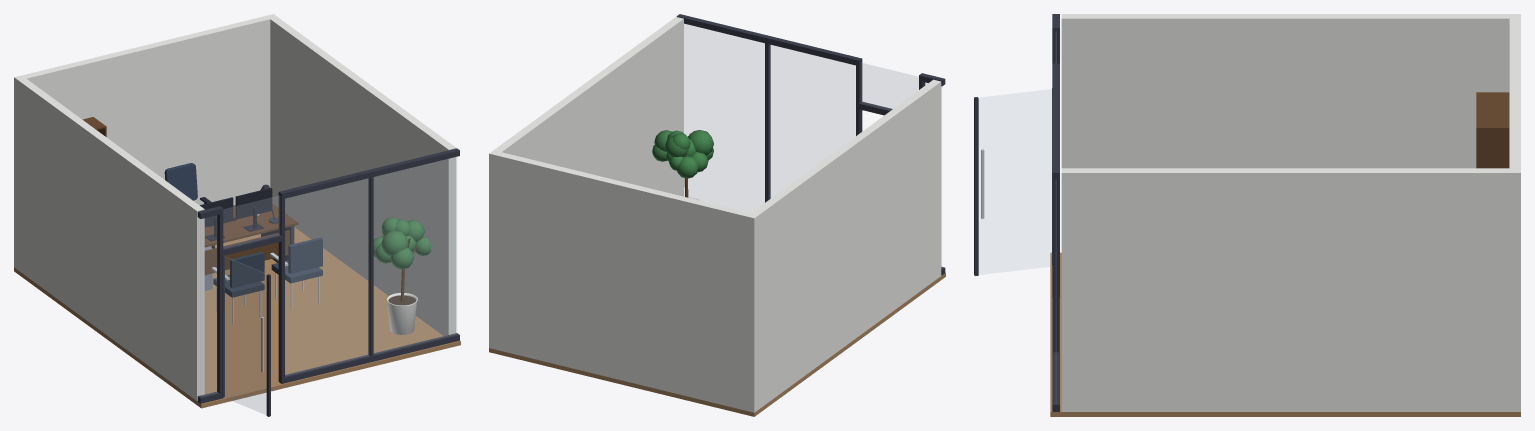
3 renders of one model, left to right at view 1: azimuth 30°, elevation 25°; view 2: azimuth 150°, elevation 25°; view 3: azimuth 270°, elevation 25°, orthographic. The views are drawn at different scales.
Visible parts, largest first — view 1: office_wall, glass_clear, wood_floor, dark_steel, upholstery, walnut, leaf, plastic_dark, ceramic_white, chair_fabric, chrome; view 2: office_wall, glass_clear, dark_steel, leaf, wood_floor; view 3: office_wall, glass_clear, dark_steel, wood_floor, walnut.
Part boxes in pixels (x1=…): office_wall: x1=14, y1=14, x2=456, y2=400; glass_clear: x1=201, y1=157, x2=456, y2=414; wood_floor: x1=14, y1=227, x2=460, y2=408; dark_steel: x1=197, y1=148, x2=459, y2=416; upholstery: x1=213, y1=237, x2=322, y2=297; walnut: x1=82, y1=117, x2=417, y2=301; leaf: x1=373, y1=217, x2=430, y2=269; plastic_dark: x1=200, y1=188, x2=272, y2=241; ceramic_white: x1=257, y1=214, x2=417, y2=334; chair_fabric: x1=164, y1=163, x2=197, y2=200; chrome: x1=211, y1=252, x2=323, y2=324; office_wall: x1=489, y1=17, x2=941, y2=412; glass_clear: x1=684, y1=24, x2=927, y2=212; dark_steel: x1=676, y1=14, x2=945, y2=275; leaf: x1=652, y1=130, x2=713, y2=178; wood_floor: x1=489, y1=272, x2=945, y2=416; office_wall: x1=1061, y1=14, x2=1520, y2=411; glass_clear: x1=979, y1=89, x2=1051, y2=274; dark_steel: x1=974, y1=14, x2=1059, y2=411; wood_floor: x1=1050, y1=252, x2=1520, y2=416; walnut: x1=1476, y1=92, x2=1509, y2=168.
Bounding box in the file's own units: 4 × 2.86 × 5.81.
